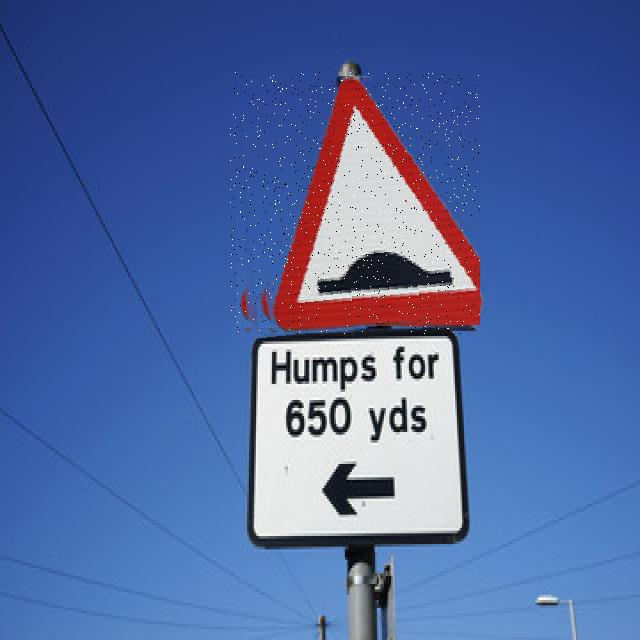hump: (230, 72, 480, 334)
